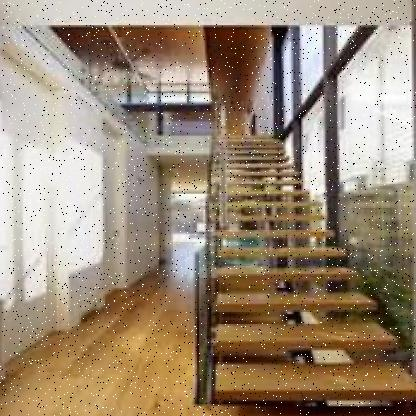stair_up: (207, 240, 416, 410)
